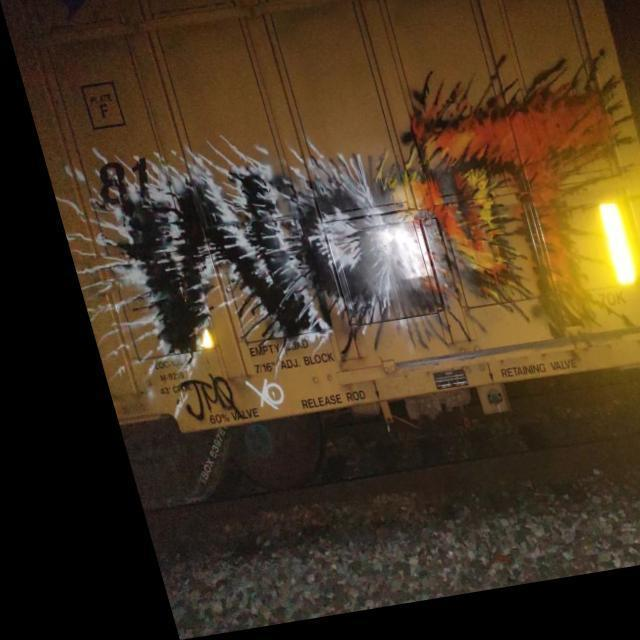-: (46, 76, 640, 414), (222, 338, 318, 386), (633, 106, 640, 252)
